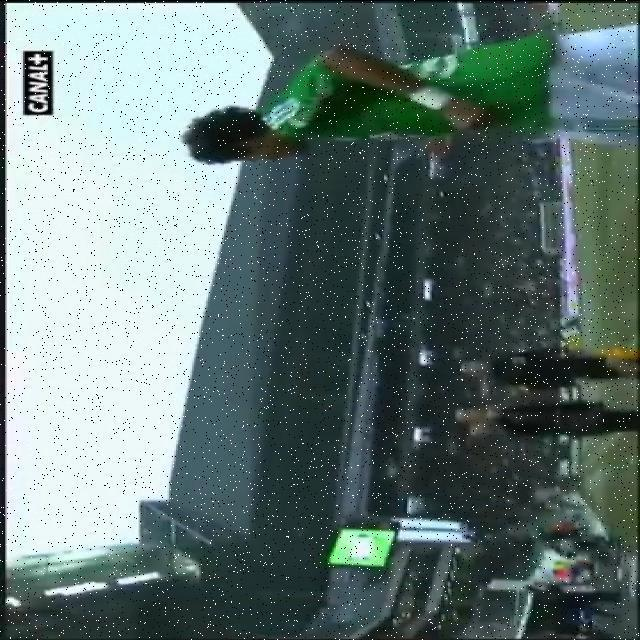player: (133, 19, 640, 197)
